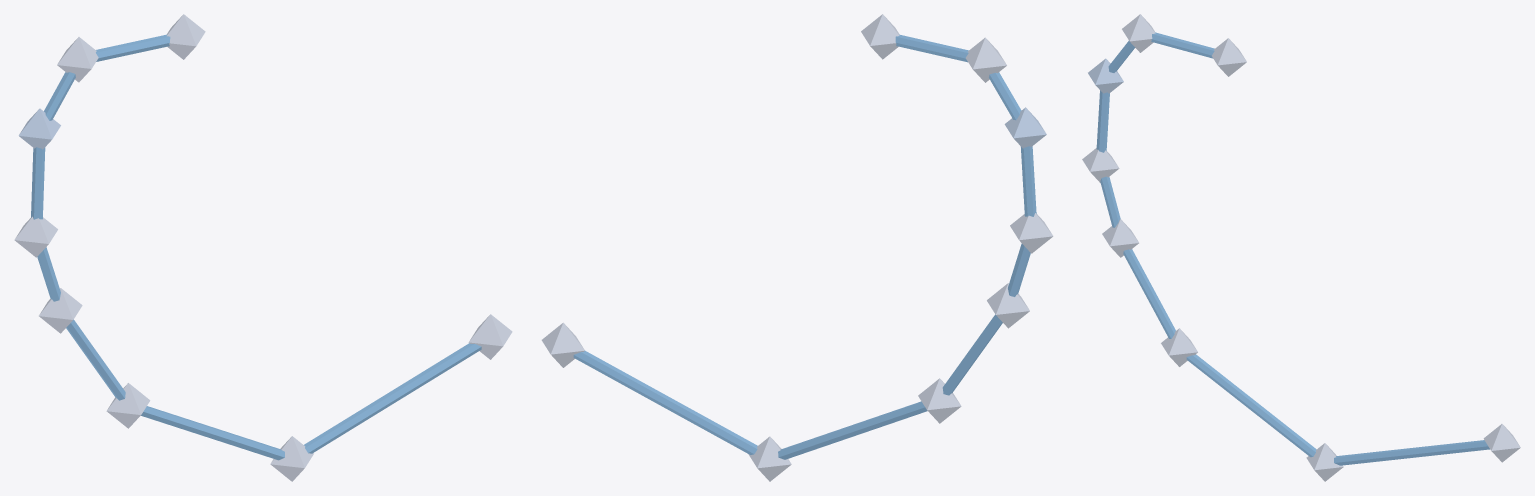
The model's file is constellation-cra.glb.
3 renders of one model, left to right at view 1: azimuth 30°, elevation 25°; view 2: azimuth 150°, elevation 25°; view 3: azimuth 330°, elevation 25°, orthographic. The views are drawn at different scales.
Bounding box in the file's own units: 0.7829 × 0.7364 × 0.0929.
